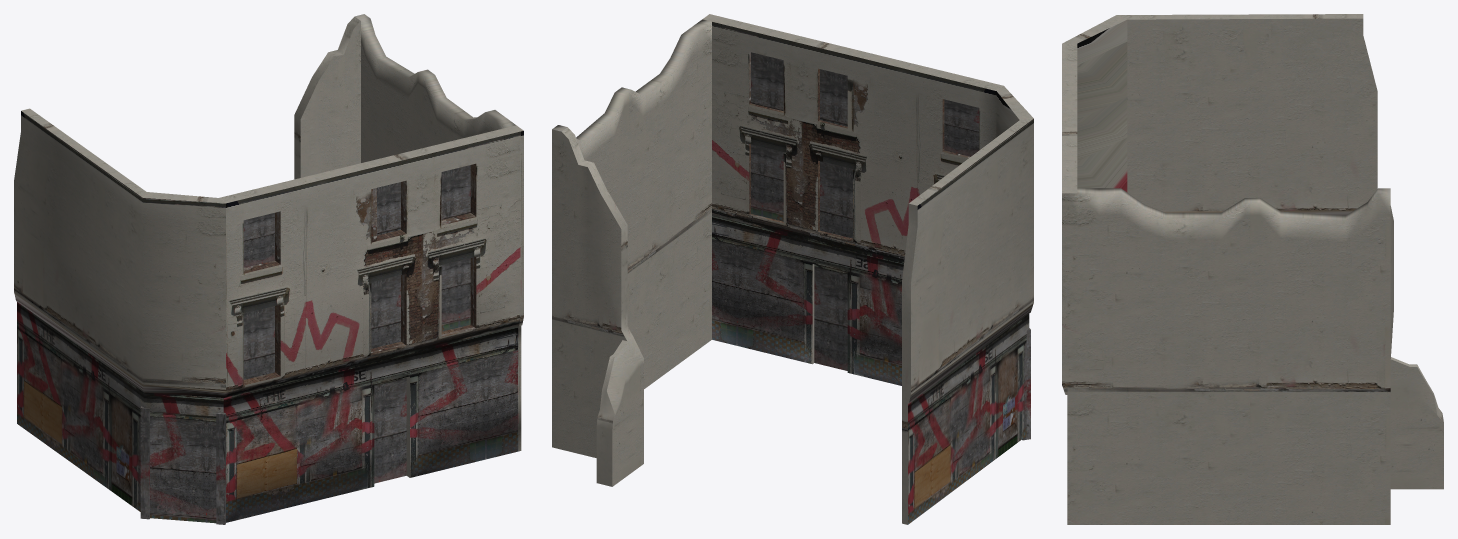
The model's file is war_torn5.obj.
3 renders of one model, left to right at view 1: azimuth 30°, elevation 25°; view 2: azimuth 150°, elevation 25°; view 3: azimuth 270°, elevation 25°, orthographic. The views are drawn at different scales.
Parts seen in each view (by area): view 1: worn_torn5; view 2: worn_torn5; view 3: worn_torn5.
Boxes of the visible parts, x1,y1,x2,y2 form: worn_torn5: [14, 14, 523, 524]; worn_torn5: [552, 14, 1033, 524]; worn_torn5: [1062, 14, 1443, 524].
Size of the model in its own units: 357 by 308 by 321.
Materials: 1 (1 with a texture image).
